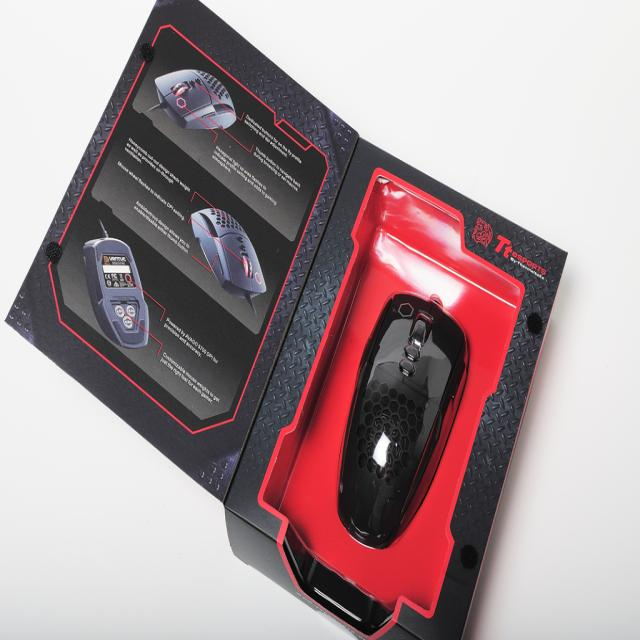Computer-mouse: (338, 292, 469, 545)
